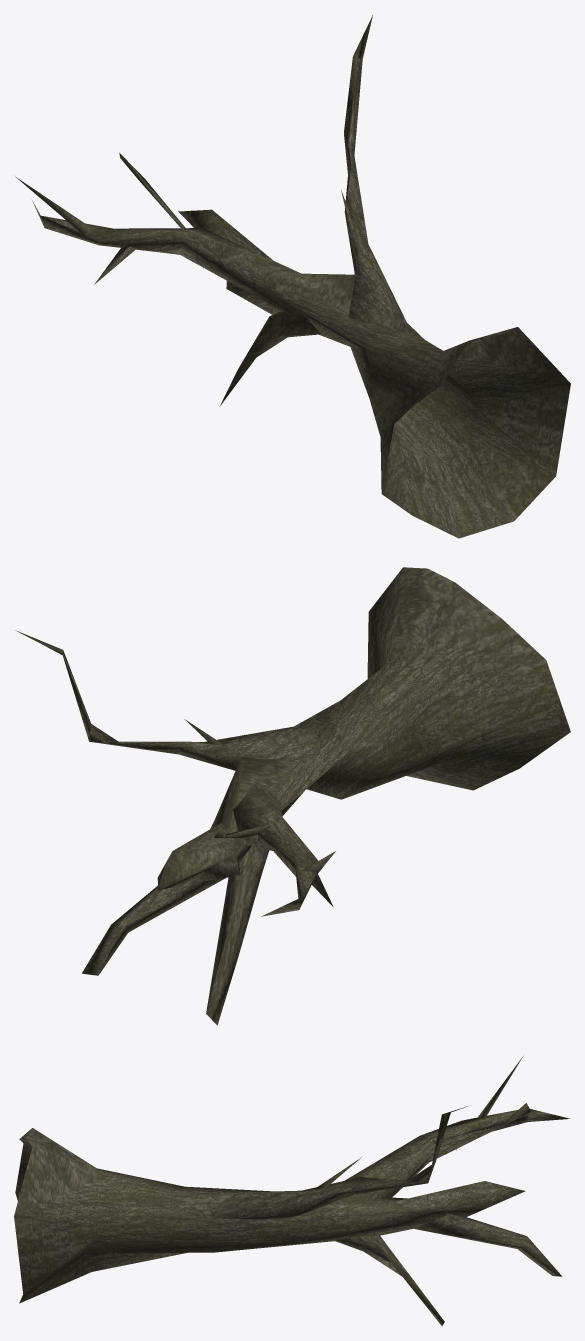
File: tree2.FBX
3 views of the same model, one above another, from view 1: azimuth 30°, elevation 25°; view 2: azimuth 150°, elevation 25°; view 3: azimuth 270°, elevation 25° (orthographic). The views are drawn at different scales.
Visible parts, largest first — view 1: TI_Old_Tree_03_LOD_03; view 2: TI_Old_Tree_03_LOD_03; view 3: TI_Old_Tree_03_LOD_03.
Boxes of the visible parts, left/top/right/bottom form: TI_Old_Tree_03_LOD_03: left=15, top=15, right=570, bottom=538; TI_Old_Tree_03_LOD_03: left=15, top=567, right=570, bottom=1025; TI_Old_Tree_03_LOD_03: left=14, top=1056, right=570, bottom=1326.
Size of the model in its own units: 2.33 by 2.29 by 3.92.
